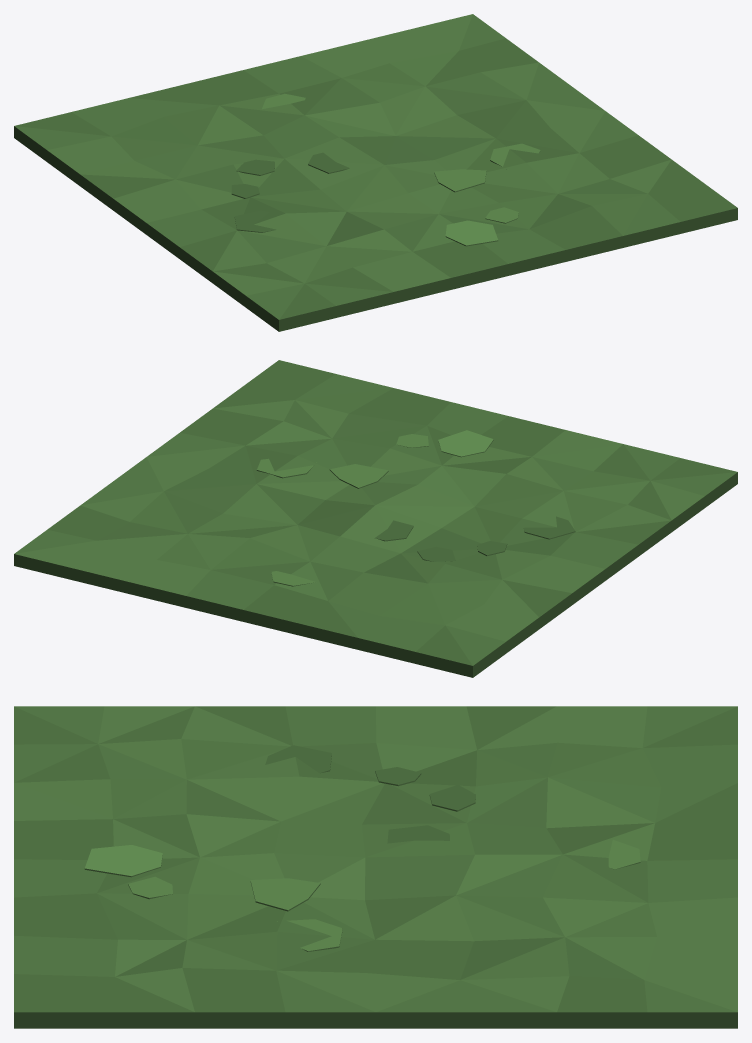
Rendered from ground_grass_a.glb.
The picture shows the model from 3 angles, top to bottom: view 1: azimuth 30°, elevation 25°; view 2: azimuth 150°, elevation 25°; view 3: azimuth 270°, elevation 25°; orthographic projection. The views are drawn at different scales.
Parts seen in each view (by area): view 1: ground_grass_a; view 2: ground_grass_a; view 3: ground_grass_a.
Boxes of the visible parts, x1,y1,x2,y2 form: ground_grass_a: [14, 14, 737, 331]; ground_grass_a: [14, 360, 737, 677]; ground_grass_a: [14, 706, 737, 1028].
Bounding box in the file's own units: 4 × 0.1307 × 4.
